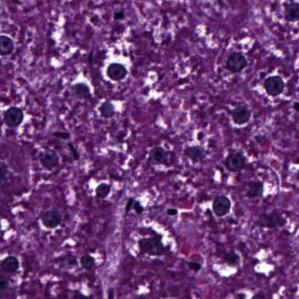inflammation: (228, 102, 257, 130), (104, 58, 130, 83), (260, 74, 287, 98), (210, 191, 234, 218), (37, 208, 67, 228), (145, 145, 172, 167), (225, 54, 251, 75), (186, 140, 208, 164), (91, 181, 115, 202), (70, 79, 93, 100), (3, 252, 22, 276), (3, 107, 24, 128), (225, 153, 249, 171)
